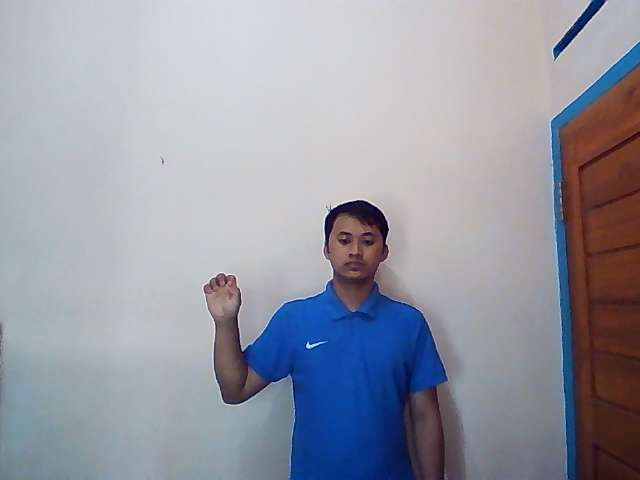E: (202, 272, 243, 322)
